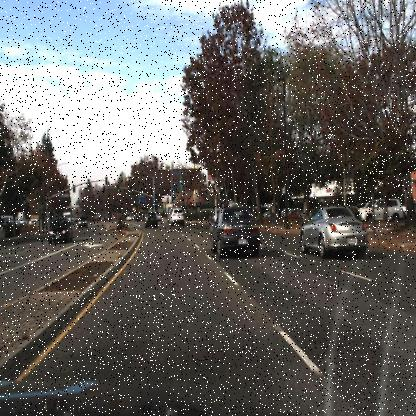car: (300, 204, 372, 255), (208, 203, 263, 259), (359, 194, 405, 225), (359, 200, 404, 222), (46, 218, 72, 245), (167, 206, 187, 224), (143, 211, 160, 230)
truck: (59, 210, 71, 226)
